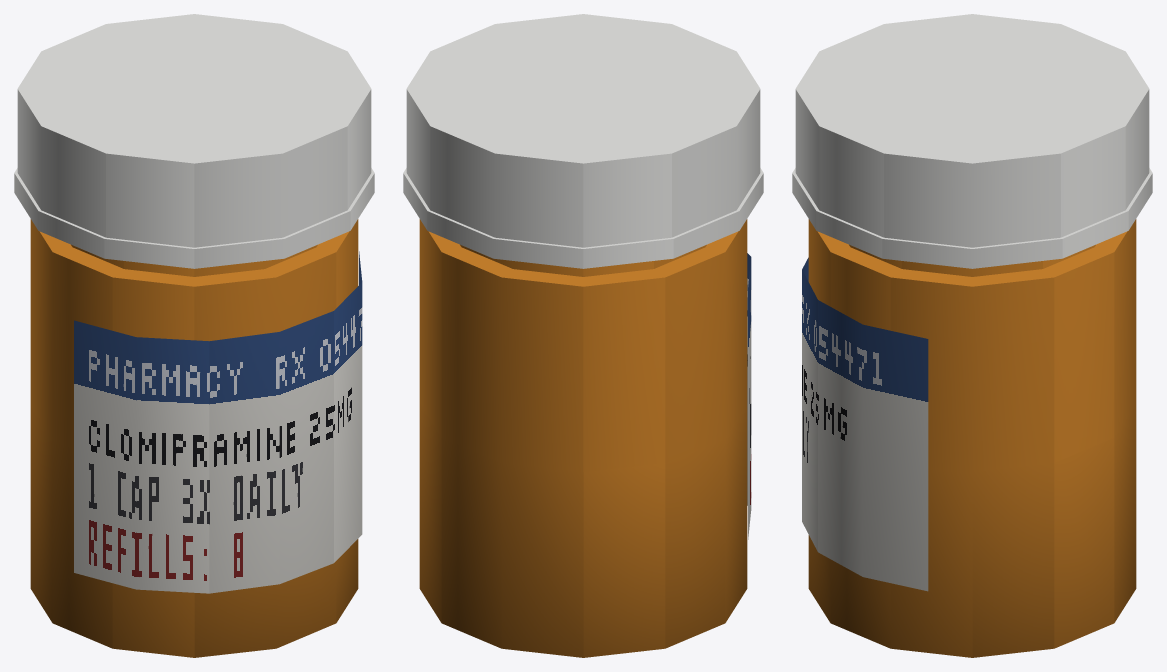
Rendered from pill_bottle_wide.glb.
3 renders of one model, left to right at view 1: azimuth 30°, elevation 25°; view 2: azimuth 150°, elevation 25°; view 3: azimuth 270°, elevation 25°, orthographic.
Parts seen in each view (by area): view 1: body, panels; view 2: body, panels; view 3: body, panels.
Part boxes in pixels (box(x1,y1,x2,y2)): body: box(14, 14, 374, 657); panels: box(74, 251, 362, 593); body: box(403, 14, 763, 657); panels: box(747, 253, 751, 539); body: box(792, 14, 1152, 657); panels: box(802, 257, 928, 591).
Size of what is drawn, in the model's own units: 0.066 by 0.101 by 0.066.
3 materials, 1 textured.
